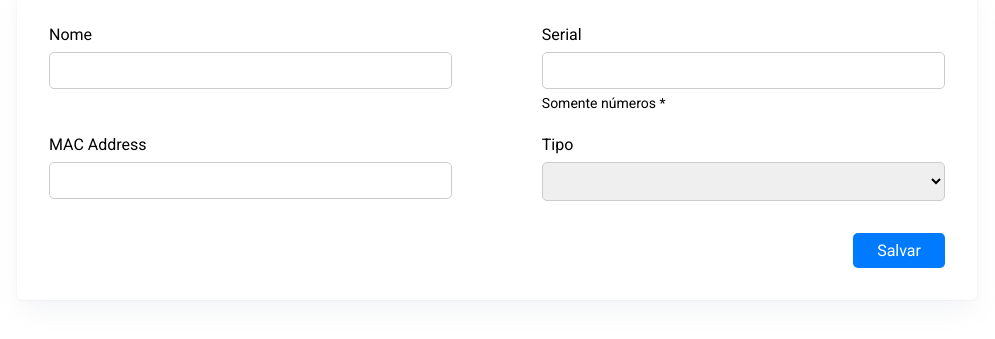
DeviceForm › should display error messages when submitting with empty values
Click the button "Salvar": (899,250) [853,233,945,268]
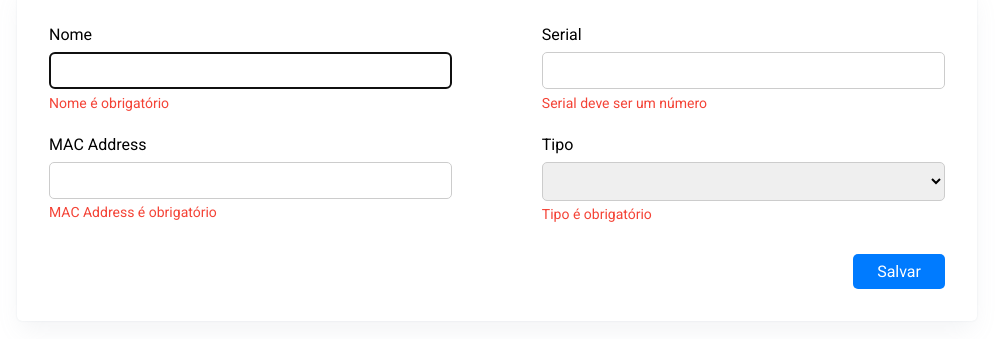
Check: the text "Nome é obrigatório" is shown, box [49,95,169,111]
Check: the text "Serial deve ser um número" is shown, box [542,95,707,111]
Check: the text "MAC Address é obrigatório" is shown, box [49,204,217,220]
